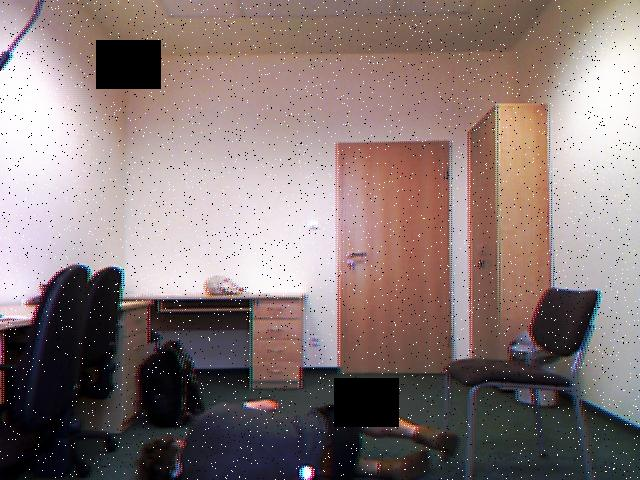fall: (133, 393, 467, 480)
